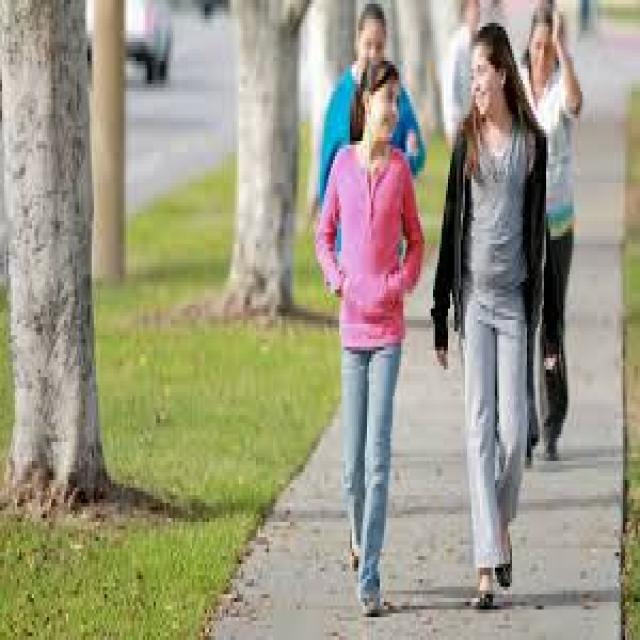Person: (434, 22, 546, 610), (316, 65, 424, 610), (513, 4, 583, 462), (321, 5, 424, 222)
